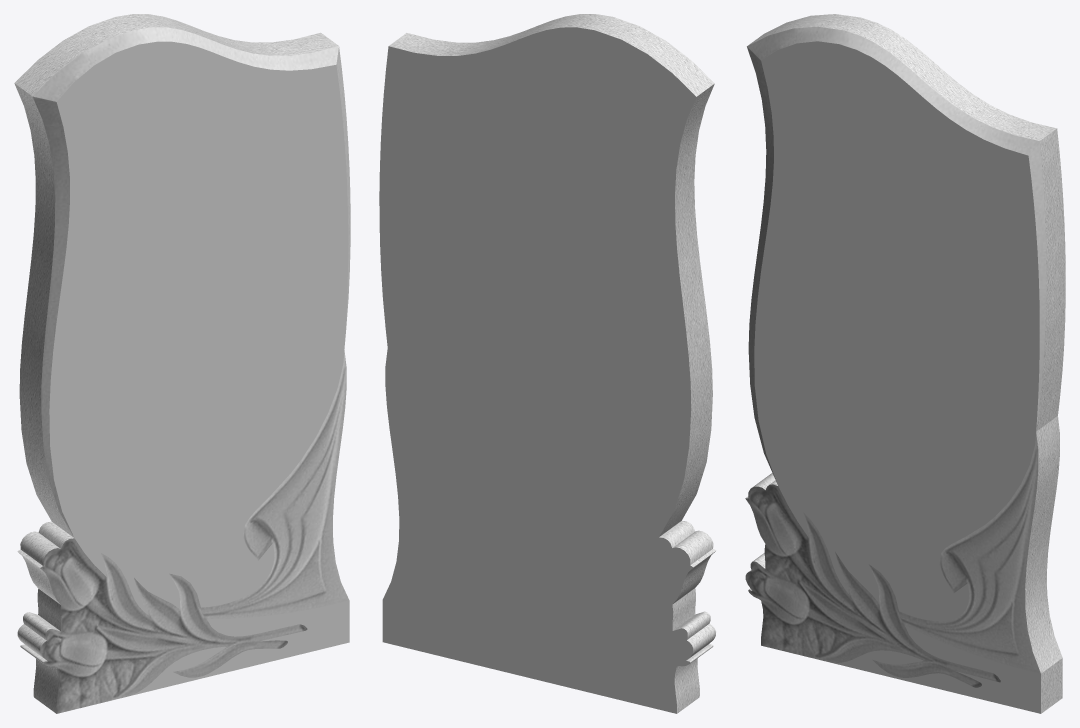
File: cnbdc12ffe7b_tkf.glb
3 views of the same model, side by side, from view 1: azimuth 30°, elevation 25°; view 2: azimuth 150°, elevation 25°; view 3: azimuth 330°, elevation 25° (orthographic). The views are drawn at different scales.
Visible parts, largest first — view 1: Pam-d03-048, Pam-d03-048_2_notexture; view 2: Pam-d03-048, Pam-d03-048_2_notexture; view 3: Pam-d03-048, Pam-d03-048_2_notexture.
Part boxes in pixels (box(x1,y1,x2,y2)): Pam-d03-048: box(49, 41, 349, 695); Pam-d03-048_2_notexture: box(14, 14, 350, 713); Pam-d03-048: box(379, 27, 696, 713); Pam-d03-048_2_notexture: box(389, 14, 716, 713); Pam-d03-048: box(754, 41, 1040, 713); Pam-d03-048_2_notexture: box(745, 14, 1065, 713).
Bounding box in the file's own units: 0.4 × 0.8 × 0.05.
Materials: 1 (1 with a texture image).
